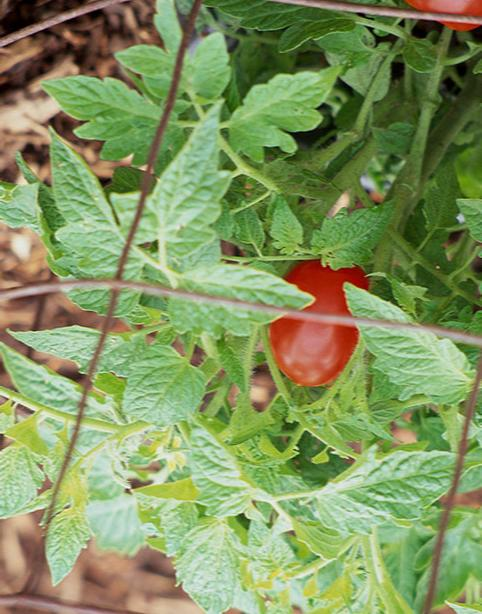Tomato leaf: (43, 125, 160, 280), (346, 286, 482, 413), (130, 110, 237, 266), (312, 438, 480, 529), (215, 58, 336, 158), (36, 73, 162, 167), (0, 340, 101, 434), (170, 514, 257, 614), (176, 263, 308, 328), (203, 0, 365, 47), (121, 340, 199, 434), (304, 199, 399, 273), (33, 491, 86, 586), (0, 443, 45, 522)
